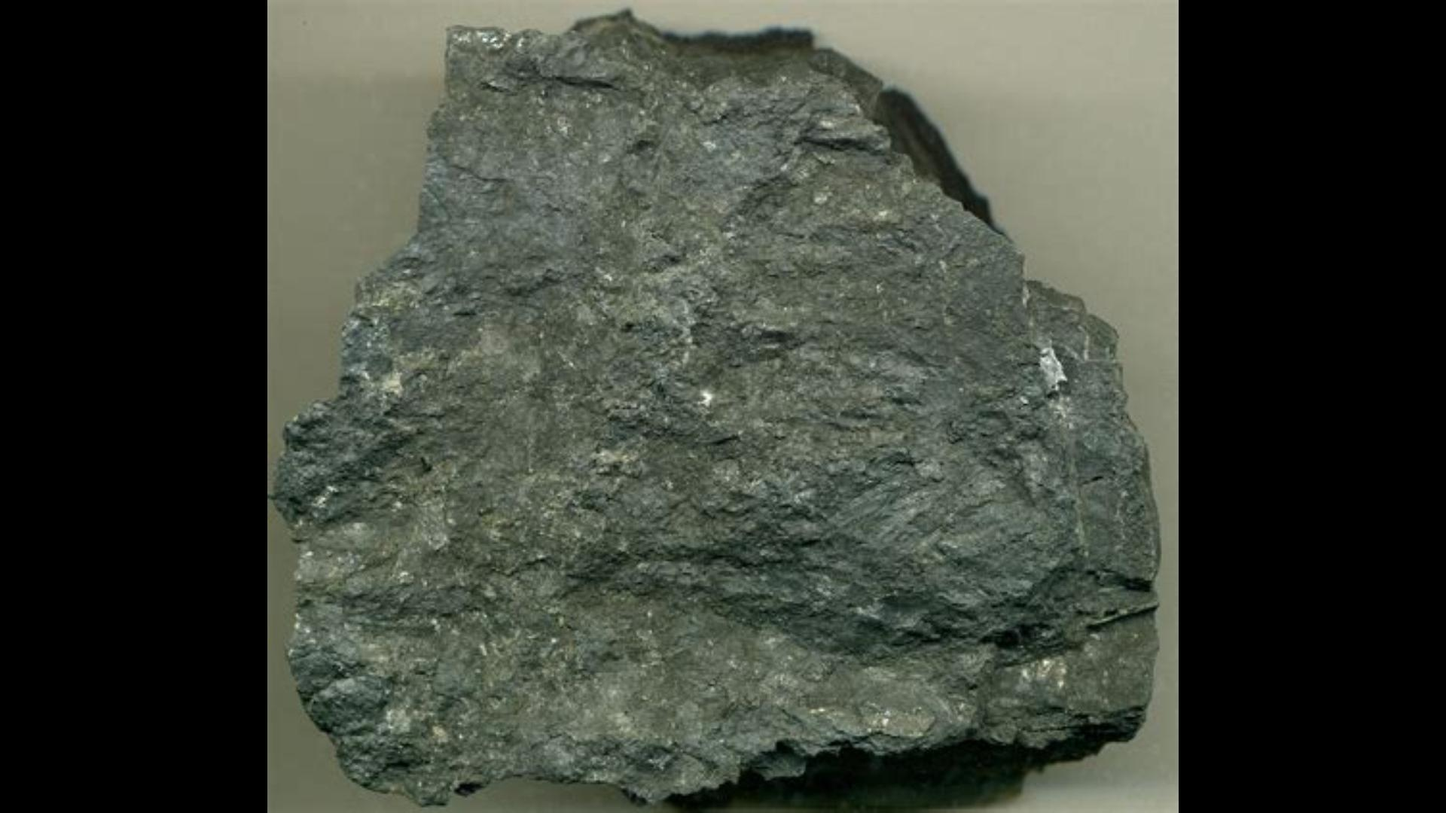rock: (273, 13, 1156, 803)
